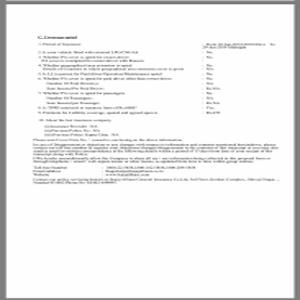text: (35, 32, 276, 138), (30, 140, 281, 186)
